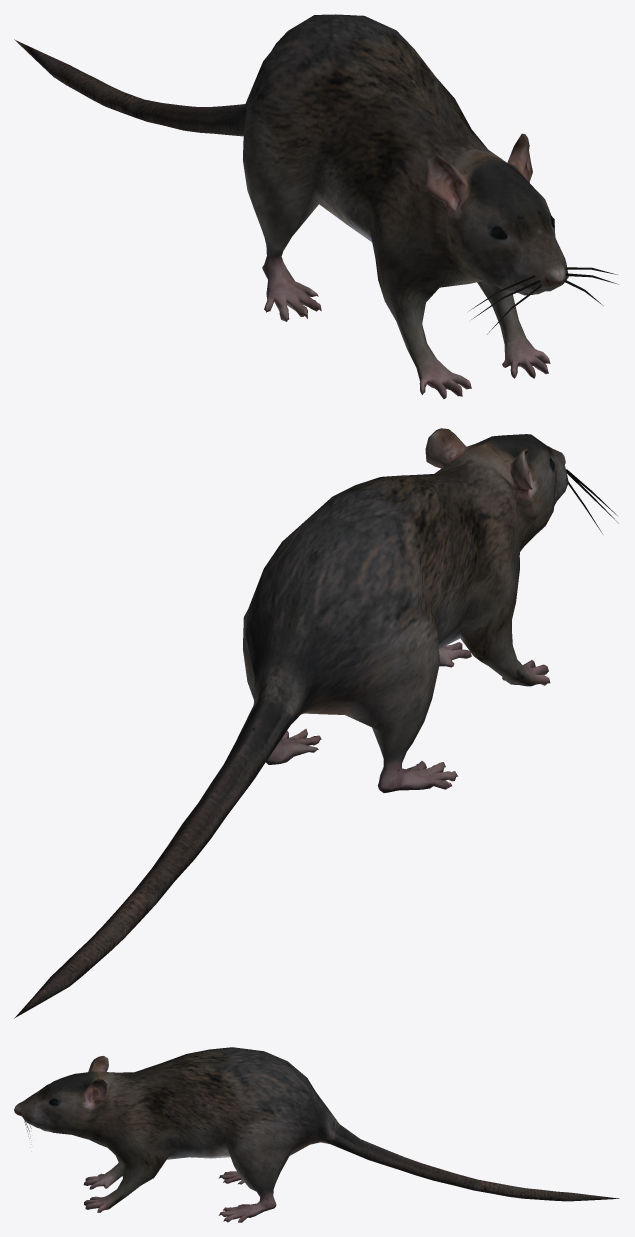
Rendered from Rat.gltf.
The picture shows the model from 3 angles, top to bottom: view 1: azimuth 30°, elevation 25°; view 2: azimuth 150°, elevation 25°; view 3: azimuth 270°, elevation 25°; orthographic projection. The views are drawn at different scales.
Visible parts, largest first — view 1: sm_1_0_0; view 2: sm_1_0_0; view 3: sm_1_0_0.
Part boxes in pixels (x1,y1,x2,y2): sm_1_0_0: [14, 14, 618, 398]; sm_1_0_0: [14, 428, 618, 1018]; sm_1_0_0: [14, 1047, 619, 1222].
Size of the model in its own units: 0.092 by 0.1299 by 0.4691.
1 material, 1 textured.
